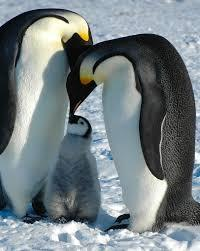emporer: (56, 29, 200, 243), (0, 7, 98, 217)
